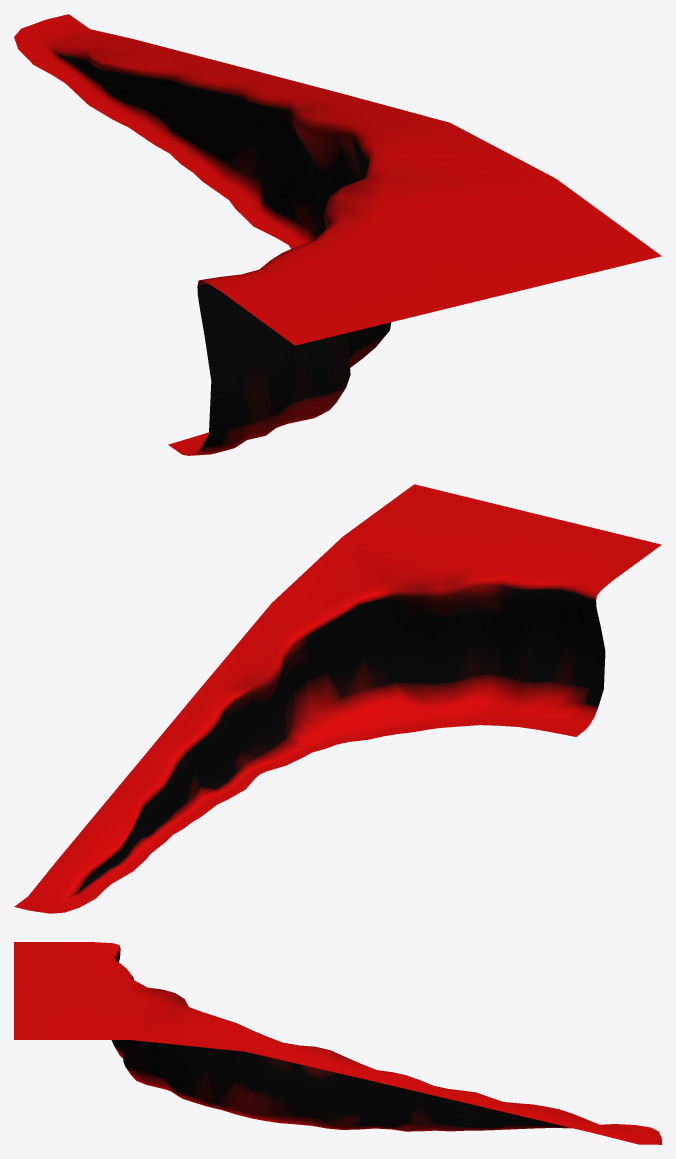
The model's file is ClimbCliff02D 1M Background.fbx.
3 views of the same model, one above another, from view 1: azimuth 30°, elevation 25°; view 2: azimuth 150°, elevation 25°; view 3: azimuth 270°, elevation 25° (orthographic). The views are drawn at different scales.
Visible parts, largest first — view 1: ClimbCliff02D 1M Background; view 2: ClimbCliff02D 1M Background; view 3: ClimbCliff02D 1M Background.
Boxes of the visible parts, x1,y1,x2,y2 form: ClimbCliff02D 1M Background: (14, 14, 661, 455); ClimbCliff02D 1M Background: (14, 484, 661, 913); ClimbCliff02D 1M Background: (14, 942, 661, 1144).
Bounding box in the file's own units: 2 × 1 × 5.6.
